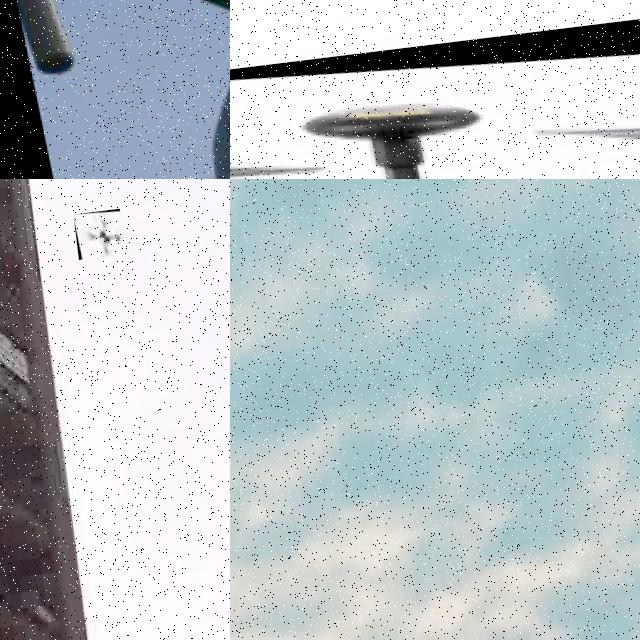drone: (230, 14, 640, 179), (0, 0, 230, 179), (73, 208, 125, 260)
